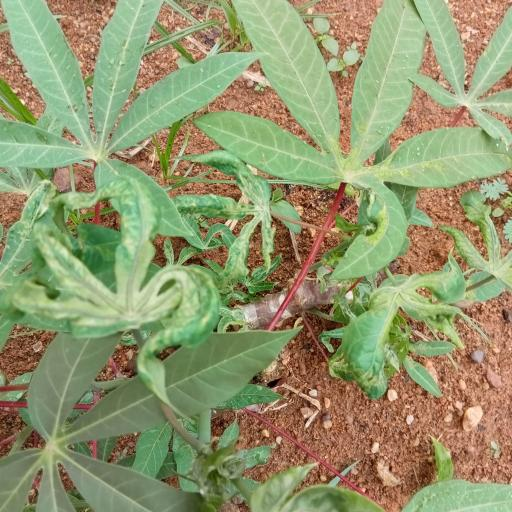Cassava_Mosaic: (212, 2, 512, 280), (3, 173, 227, 396), (322, 281, 467, 414)
